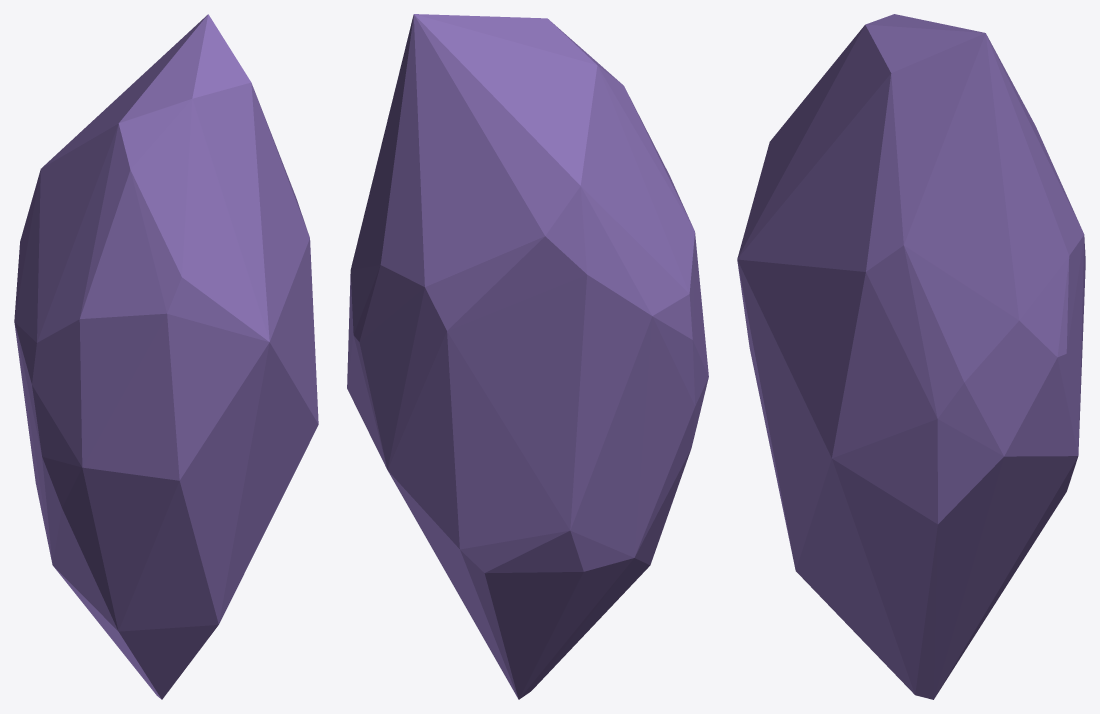
File: food_produce_sweetPotato_e01.glb
The picture shows the model from 3 angles, left to right: view 1: azimuth 30°, elevation 25°; view 2: azimuth 150°, elevation 25°; view 3: azimuth 270°, elevation 25°; orthographic projection. The views are drawn at different scales.
Parts seen in each view (by area): view 1: geometry_0; view 2: geometry_0; view 3: geometry_0.
Boxes of the visible parts, x1,y1,x2,y2 form: geometry_0: (14, 14, 318, 699); geometry_0: (347, 14, 708, 699); geometry_0: (737, 14, 1085, 699).
Bounding box in the file's own units: 0.206 × 0.4471 × 0.1998.
